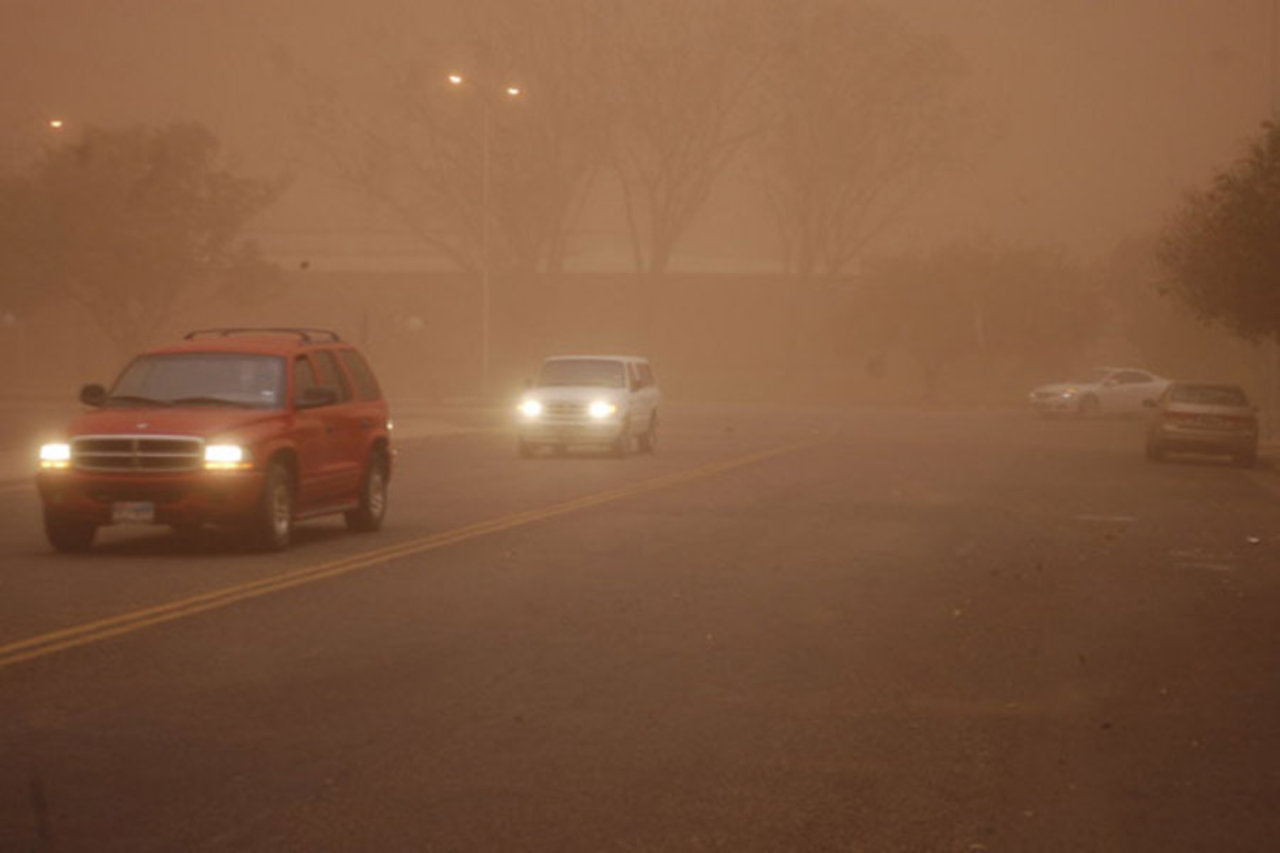car: (33, 328, 405, 556), (515, 352, 665, 457), (1140, 382, 1259, 469), (1036, 369, 1162, 417)
